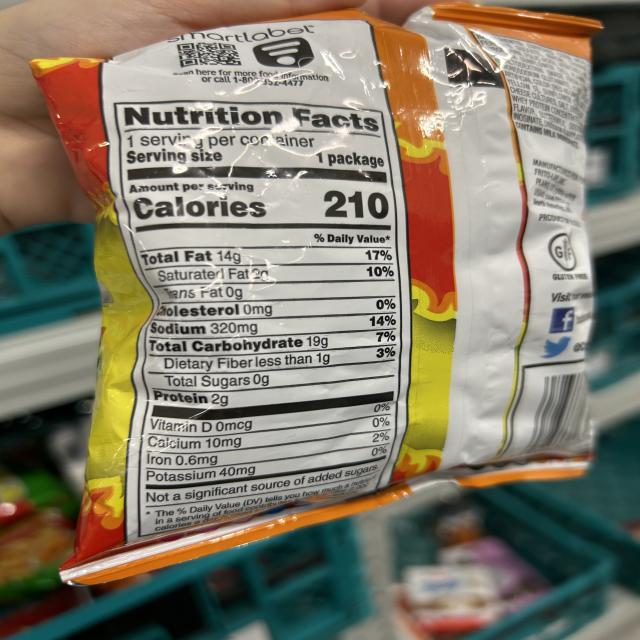object_name: (97, 46, 576, 480)
